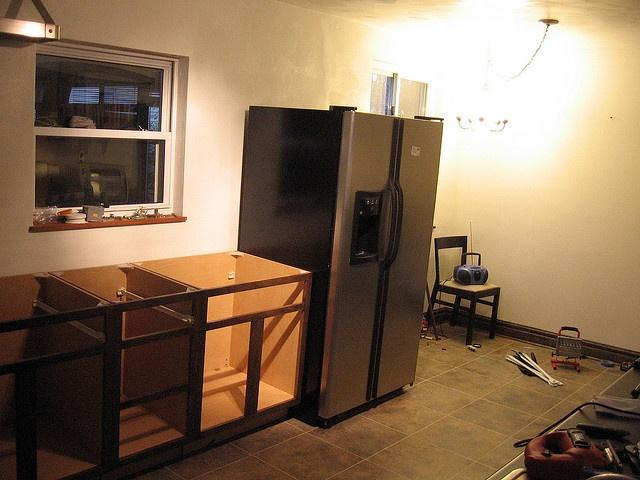Kursi: (424, 234, 500, 345)
